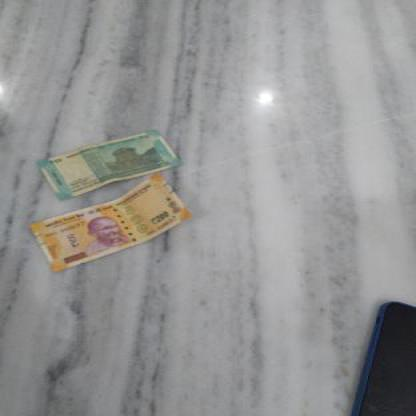New200Front: (32, 202, 185, 271)
New50Back: (42, 130, 177, 178)
